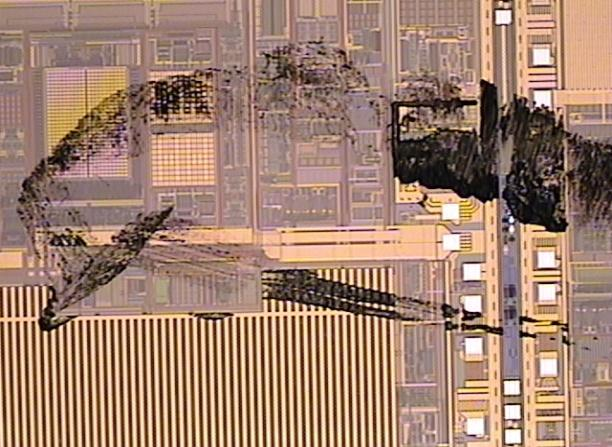SCRATCH: (12, 37, 612, 356)
